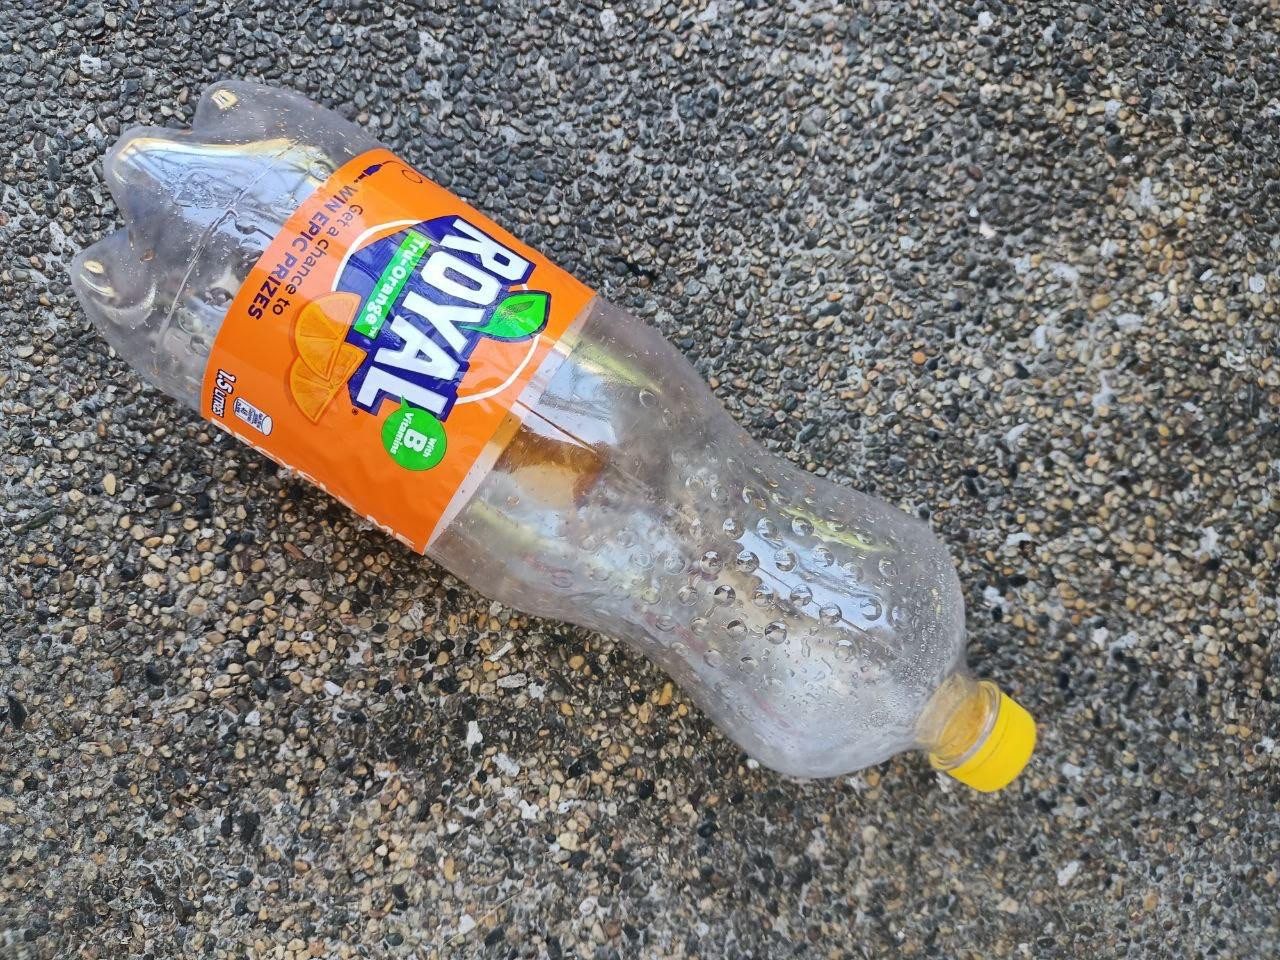plastic: (19, 59, 1068, 861)
